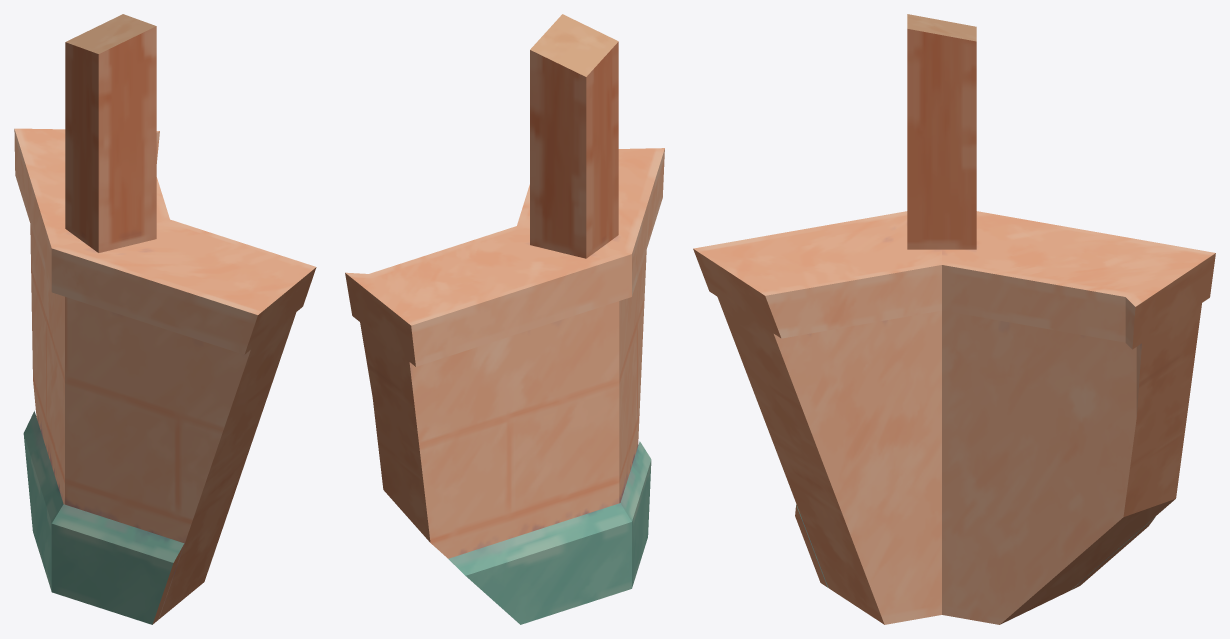
The model's file is well_s06.fbx.
3 renders of one model, left to right at view 1: azimuth 30°, elevation 25°; view 2: azimuth 150°, elevation 25°; view 3: azimuth 270°, elevation 25°, orthographic. The views are drawn at different scales.
Visible parts, largest first — view 1: well_s06; view 2: well_s06; view 3: well_s06.
Boxes of the visible parts, x1,y1,x2,y2 form: well_s06: (14, 14, 316, 624); well_s06: (345, 14, 664, 624); well_s06: (693, 14, 1215, 624).
Size of the model in its own units: 1.53 by 4.05 by 3.32.
